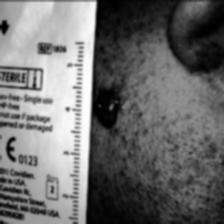Potentially Malignant Skin Tumors: (96, 82, 126, 136)
